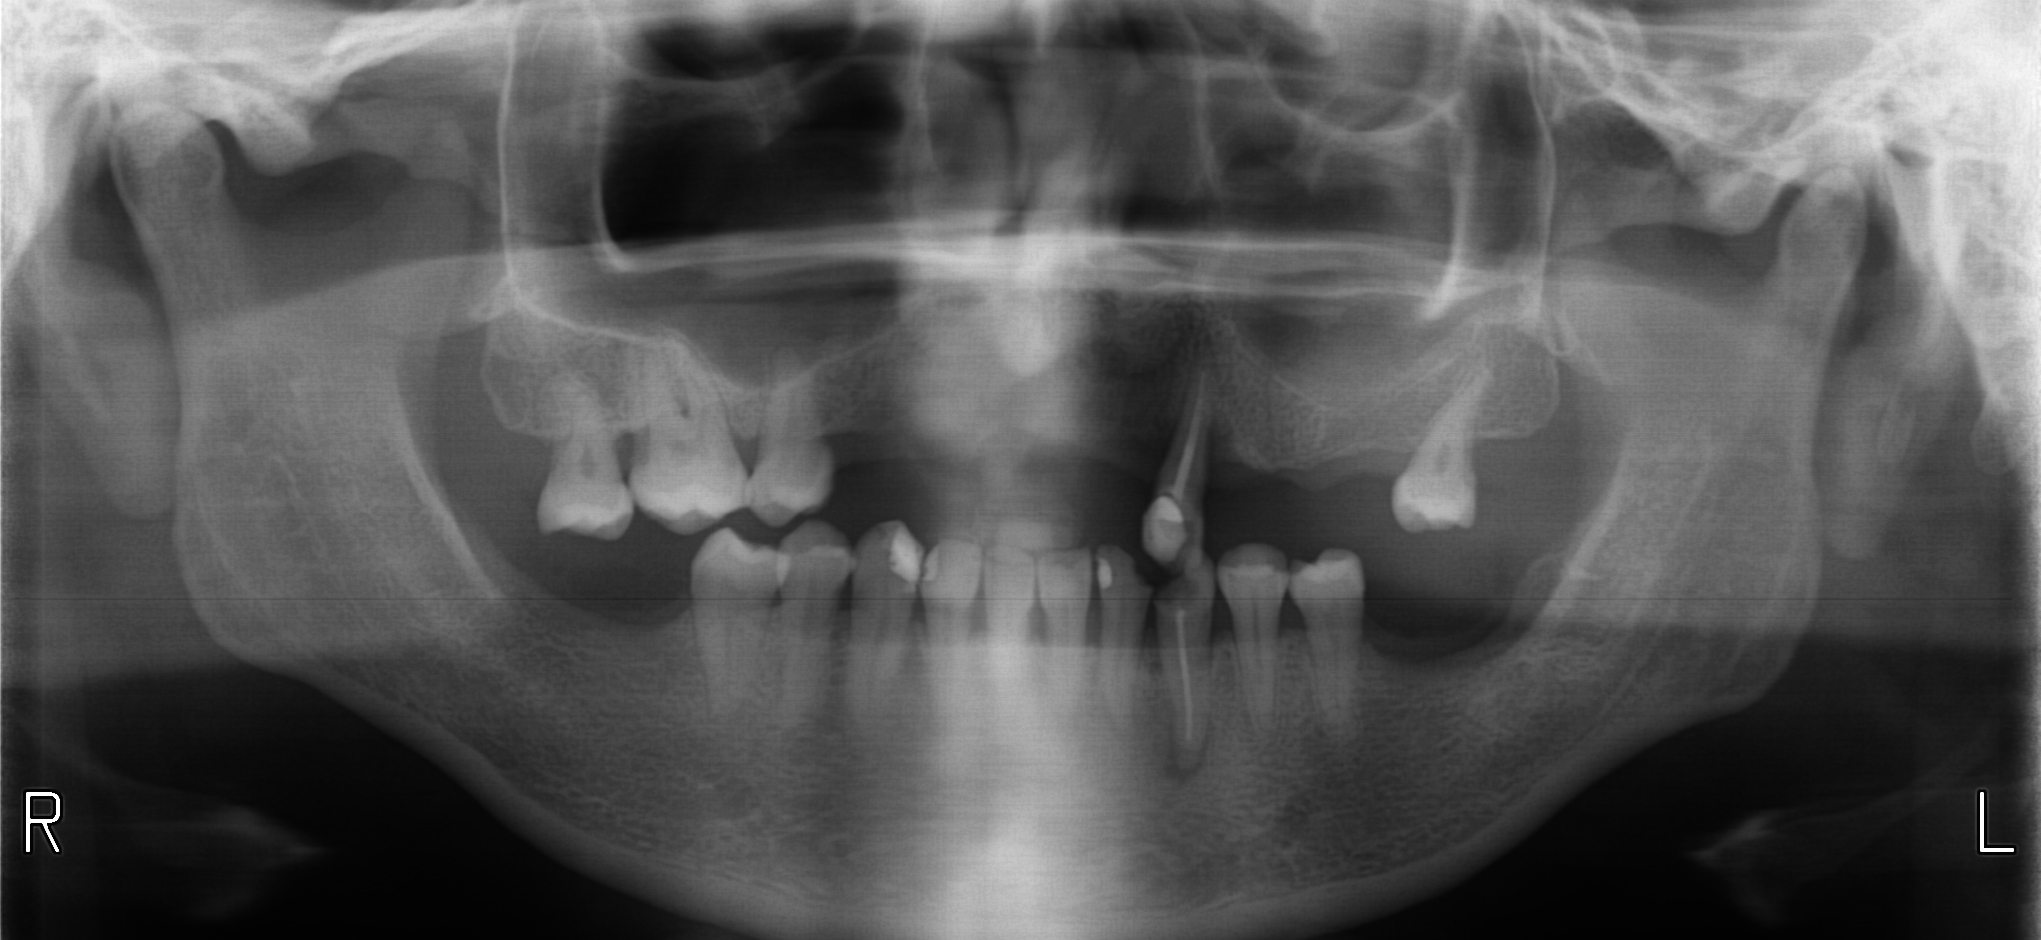cavity: (1156, 572, 1190, 604), (1135, 559, 1151, 582), (1027, 609, 1032, 628), (1043, 609, 1044, 635)
